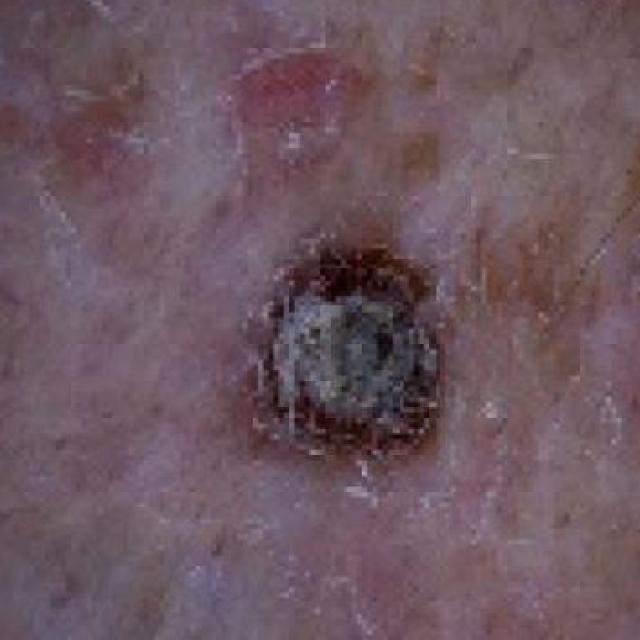AKIEC: (205, 150, 471, 640)
